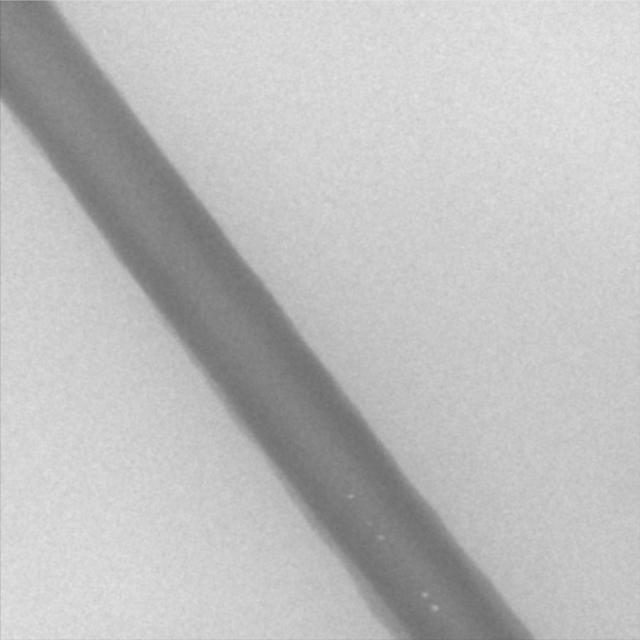air hole: (344, 489, 356, 501), (429, 603, 439, 614), (418, 589, 428, 599), (376, 532, 386, 542)
